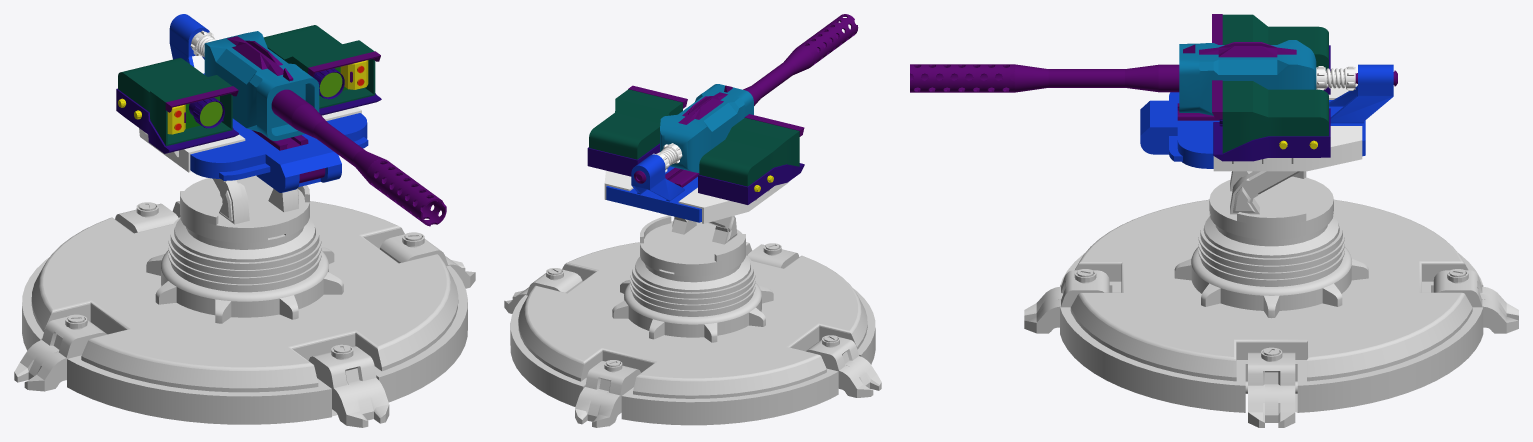
The model's file is Turret-Level2.fbx.
3 views of the same model, side by side, from view 1: azimuth 30°, elevation 25°; view 2: azimuth 150°, elevation 25°; view 3: azimuth 270°, elevation 25° (orthographic). The views are drawn at different scales.
Parts seen in each view (by area): view 1: Base, Sensor, Barrel, Grips, Sleeve, Pivot, Platform, Plate; view 2: Base, Sensor, Pivot, Grips, Barrel, Sleeve, Platform, Plate; view 3: Base, Barrel, Sensor, Pivot, Sleeve, Grips, Platform, Plate, Damper.
Part boxes in pixels (x1,y1,x2,y2): Base: (22, 201, 467, 424); Sensor: (116, 25, 381, 153); Barrel: (204, 31, 446, 226); Grips: (14, 202, 475, 427); Sleeve: (146, 217, 343, 323); Pivot: (175, 175, 314, 262); Platform: (169, 14, 368, 192); Plate: (139, 107, 361, 172); Base: (510, 242, 875, 425); Sensor: (587, 85, 804, 204); Pivot: (635, 215, 750, 292); Grips: (504, 243, 881, 427); Barrel: (660, 14, 858, 172); Sleeve: (612, 255, 773, 342); Platform: (606, 154, 701, 222); Plate: (604, 170, 788, 223); Base: (1060, 199, 1483, 412); Barrel: (910, 40, 1316, 115); Sensor: (1212, 14, 1330, 161); Pivot: (1204, 171, 1338, 258); Sleeve: (1174, 215, 1368, 318); Grips: (1024, 269, 1518, 427); Platform: (1140, 64, 1397, 168); Plate: (1213, 83, 1362, 171); Damper: (1316, 66, 1355, 90).
Bounding box in the file's own units: 579 × 362 × 713.
